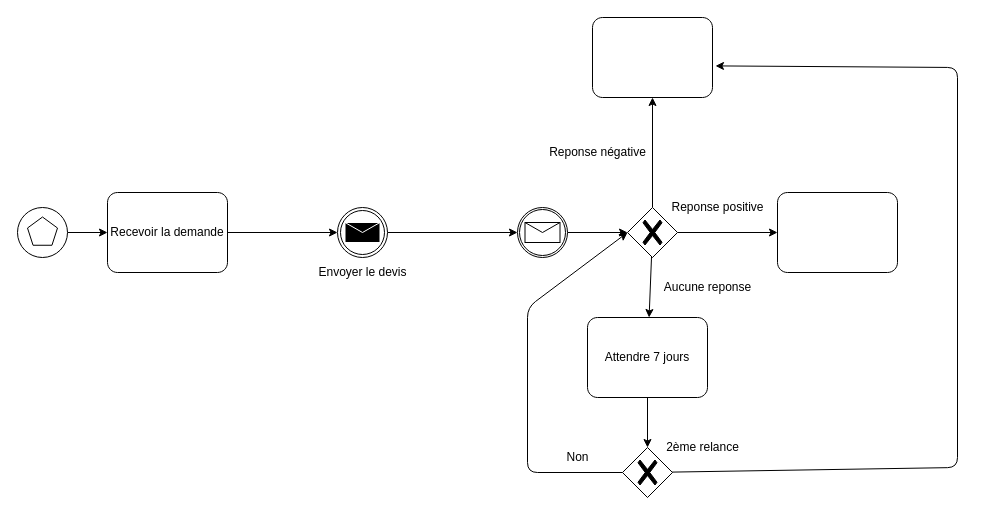
Image size: 983x515. Some labels were removed from this diagram. Each missing label, with the box of its shape:
Archiver le dossier: (592, 16, 712, 98)
Organiser un rendez-vous: (776, 192, 898, 272)
